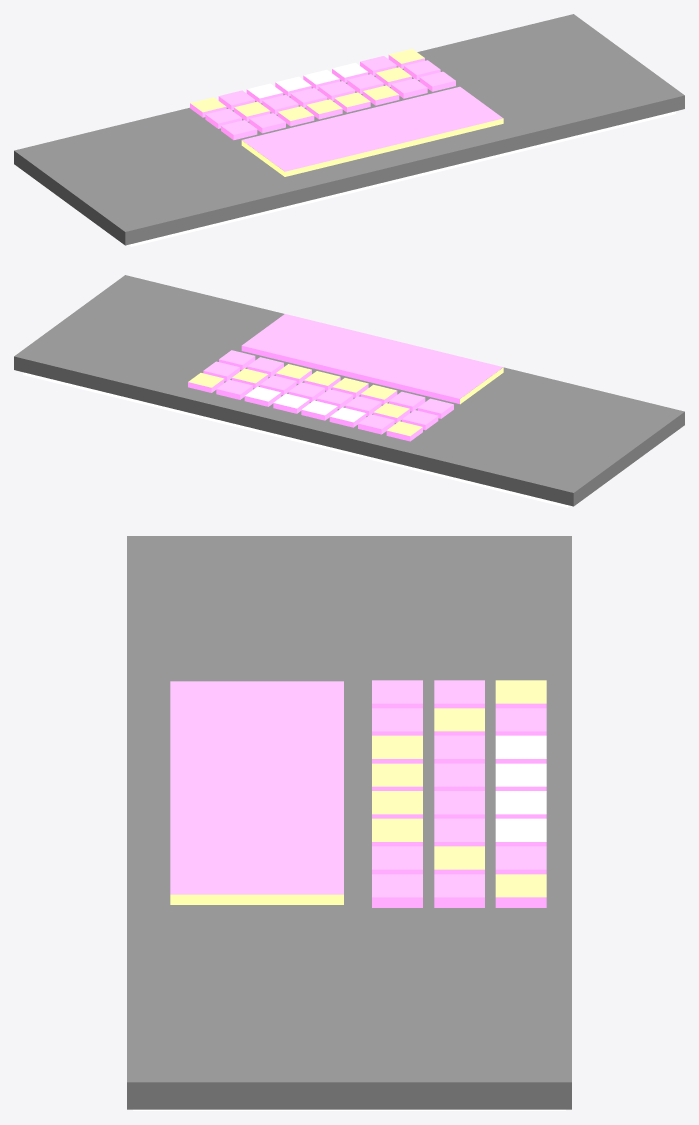
File: djset.glb
3 views of the same model, one above another, from view 1: azimuth 30°, elevation 25°; view 2: azimuth 150°, elevation 25°; view 3: azimuth 270°, elevation 25° (orthographic). The views are drawn at different scales.
Parts seen in each view (by area): view 1: dj set.015; view 2: dj set.015; view 3: dj set.015.
Boxes of the visible parts, left/top/right/bottom form: dj set.015: left=14, top=14, right=684, bottom=246; dj set.015: left=14, top=275, right=684, bottom=507; dj set.015: left=127, top=536, right=571, bottom=1110.
Size of the model in its own units: 1.86 by 0.0909 by 0.641.
